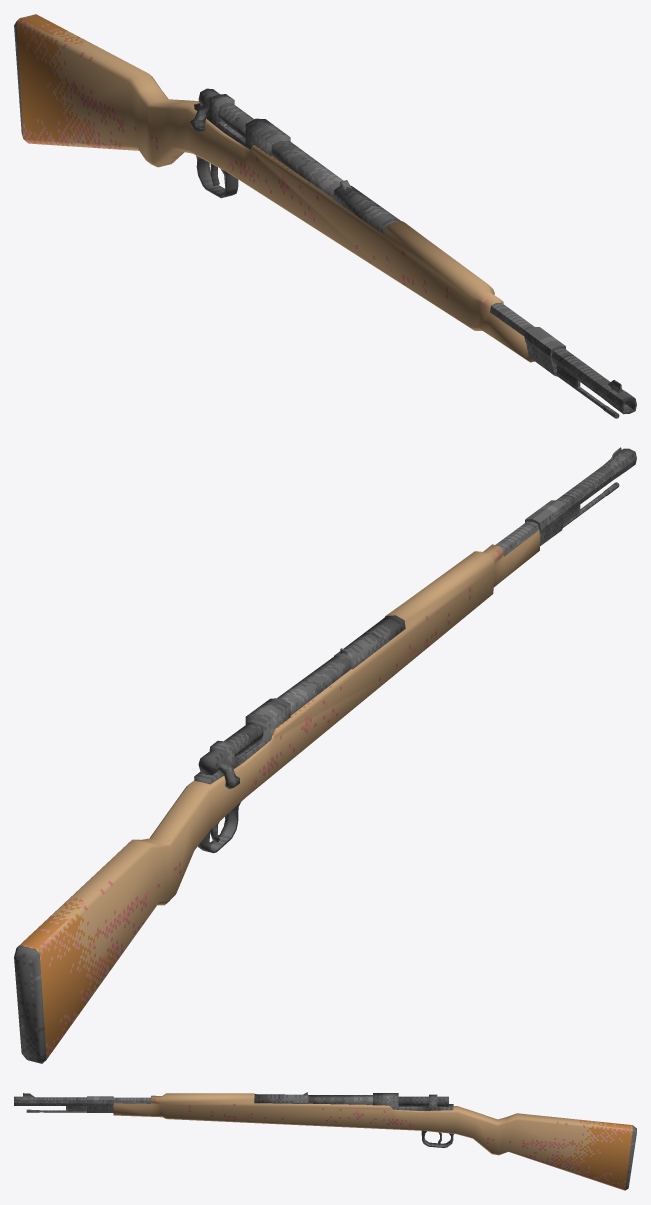
Rendered from WalnutRifle.glb.
3 renders of one model, top to bottom at view 1: azimuth 30°, elevation 25°; view 2: azimuth 150°, elevation 25°; view 3: azimuth 270°, elevation 25°, orthographic. The views are drawn at different scales.
Parts seen in each view (by area): view 1: WalnutRifle, MetalStuff2, MetalBarrel, MetalStuff, RifleBolt; view 2: WalnutRifle, MetalStuff2, MetalBarrel, RifleBolt, MetalStuff; view 3: WalnutRifle, MetalStuff2, MetalBarrel, MetalStuff, RifleBolt.
Boxes of the visible parts, x1=… form: WalnutRifle: x1=14, y1=14, x2=534, y2=362; MetalStuff2: x1=194, y1=94, x2=401, y2=234; MetalBarrel: x1=490, y1=303, x2=636, y2=414; MetalStuff: x1=524, y1=327, x2=619, y2=418; RifleBolt: x1=190, y1=88, x2=253, y2=138; WalnutRifle: x1=14, y1=530, x2=540, y2=1063; MetalStuff2: x1=194, y1=615, x2=405, y2=853; MetalBarrel: x1=495, y1=447, x2=636, y2=556; RifleBolt: x1=198, y1=722, x2=263, y2=789; MetalStuff: x1=525, y1=482, x2=619, y2=545; WalnutRifle: x1=113, y1=1093, x2=636, y2=1190; MetalStuff2: x1=254, y1=1092, x2=453, y2=1147; MetalBarrel: x1=14, y1=1093, x2=150, y2=1105; MetalStuff: x1=26, y1=1096, x2=113, y2=1112; RifleBolt: x1=398, y1=1096, x2=448, y2=1106.
Bounding box in the file's own units: 0.0253 × 0.1348 × 0.7927.
3 materials, 3 textured.
